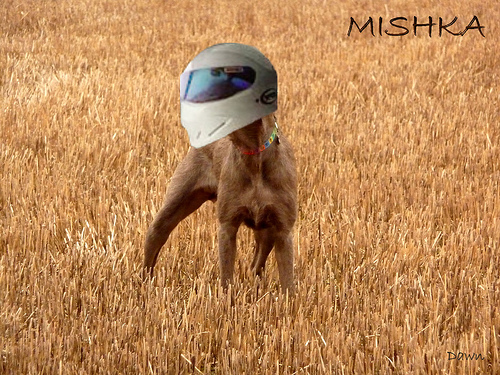helmet: (183, 54, 279, 133)
